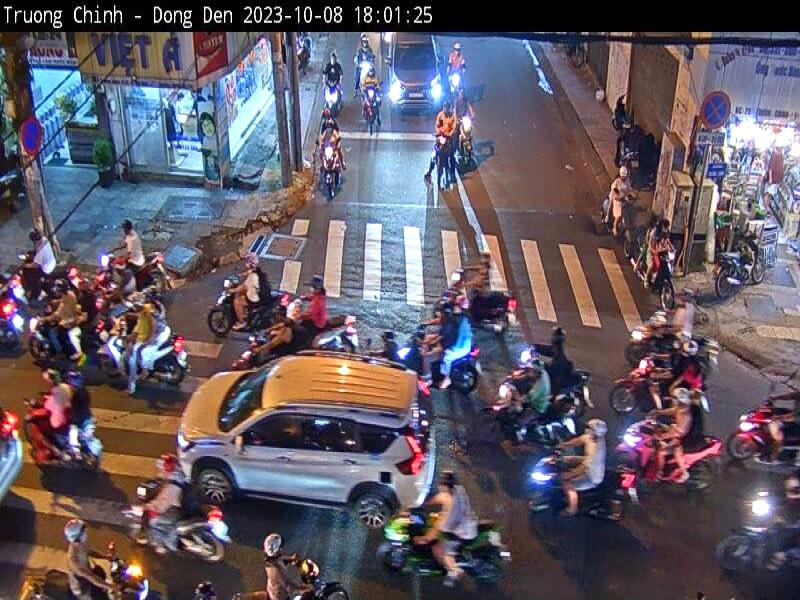car: (178, 357, 440, 536), (388, 33, 447, 116)
motorcycle: (527, 447, 638, 529), (616, 410, 723, 492), (608, 353, 706, 418), (101, 320, 190, 390), (31, 555, 152, 600), (233, 556, 352, 600), (728, 398, 800, 468), (207, 277, 287, 336), (712, 224, 765, 296), (98, 249, 174, 298), (630, 234, 677, 312), (601, 193, 641, 258), (315, 138, 344, 199), (432, 130, 454, 187), (457, 110, 478, 165), (321, 70, 344, 115)
